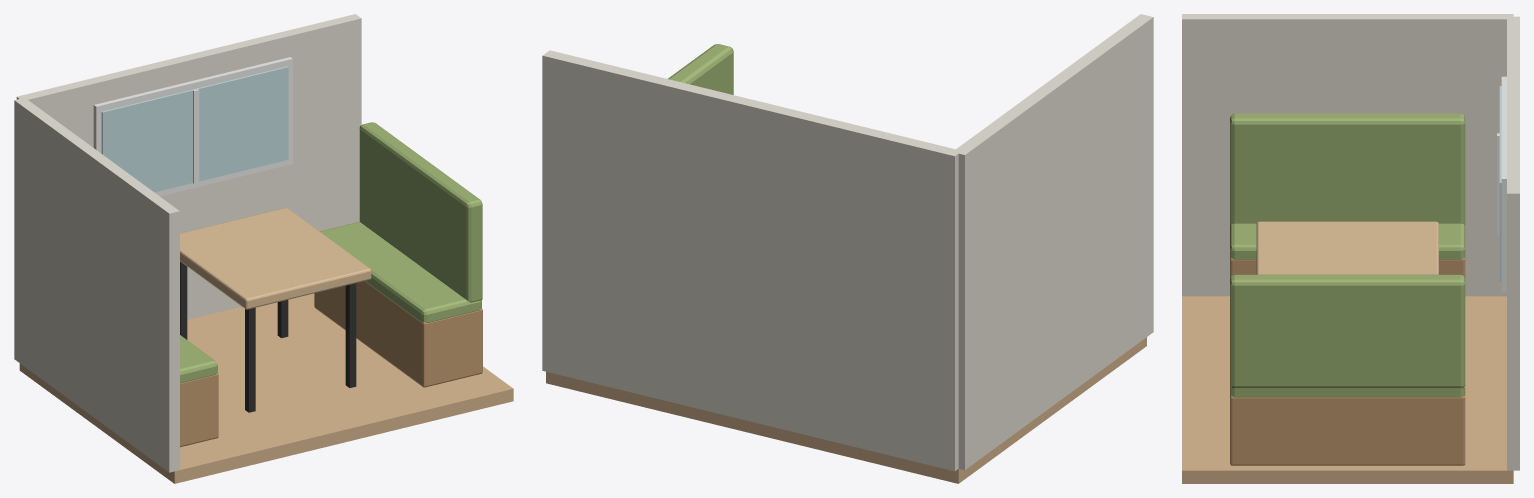
The model's file is room4.glb.
The picture shows the model from 3 angles, left to right: view 1: azimuth 30°, elevation 25°; view 2: azimuth 150°, elevation 25°; view 3: azimuth 270°, elevation 25°; orthographic projection. The views are drawn at different scales.
Parts seen in each view (by area): view 1: Left wall, Floor, Back wall, Window glass, Green backrest.001, Oak table, Bench base.001, Green seat.001, Window surround, Bench base, Table leg.002, Green seat (+3 smaller); view 2: Back wall, Left wall, Floor, Green backrest.001; view 3: Left wall, Green backrest.001, Green backrest, Floor, Bench base.001, Oak table, Back wall, Green seat.001, Green seat, Window surround, Bench base, Window glass.
Boxes of the visible parts, box(x1,y1,x2,y2) form: Left wall: box(14, 97, 179, 472); Floor: box(19, 293, 513, 483); Back wall: box(16, 14, 361, 319); Window glass: box(101, 66, 288, 192); Green backrest.001: box(359, 122, 482, 302); Oak table: box(180, 208, 371, 309); Bench base.001: box(314, 281, 482, 387); Green seat.001: box(320, 222, 481, 322); Window surround: box(93, 57, 292, 196); Bench base: box(180, 373, 218, 447); Table leg.002: box(345, 283, 356, 387); Green seat: box(180, 335, 217, 383); Back wall: box(542, 50, 960, 471); Left wall: box(953, 14, 1153, 470); Floor: box(546, 337, 1146, 483); Green backrest.001: box(668, 44, 733, 94); Left wall: box(1182, 14, 1513, 296); Green backrest.001: box(1230, 274, 1465, 388); Green backrest: box(1230, 113, 1465, 224); Floor: box(1182, 296, 1513, 483); Bench base.001: box(1230, 395, 1465, 465); Oak table: box(1256, 221, 1438, 274); Back wall: box(1507, 16, 1519, 470); Green seat.001: box(1230, 385, 1465, 397); Green seat: box(1230, 223, 1465, 259); Window surround: box(1501, 76, 1506, 291); Bench base: box(1230, 257, 1465, 278); Window glass: box(1499, 86, 1501, 281).
Size of the model in its own units: 2.29 by 1.73 by 1.82.
